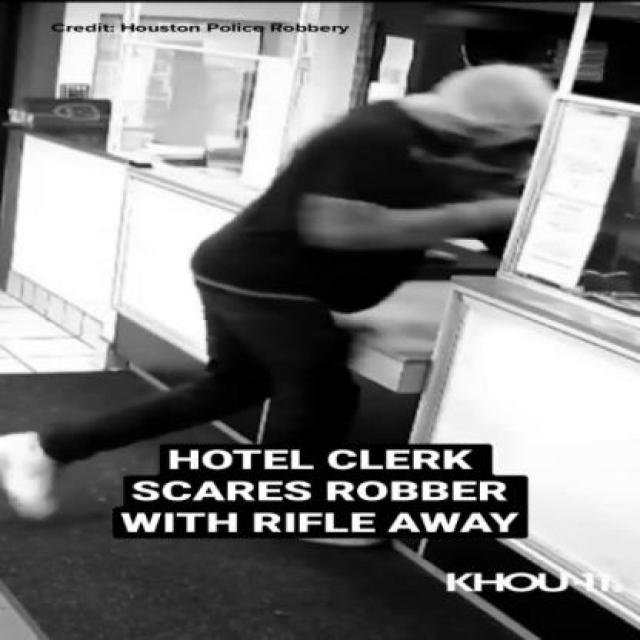weapon: (408, 145, 530, 212)
